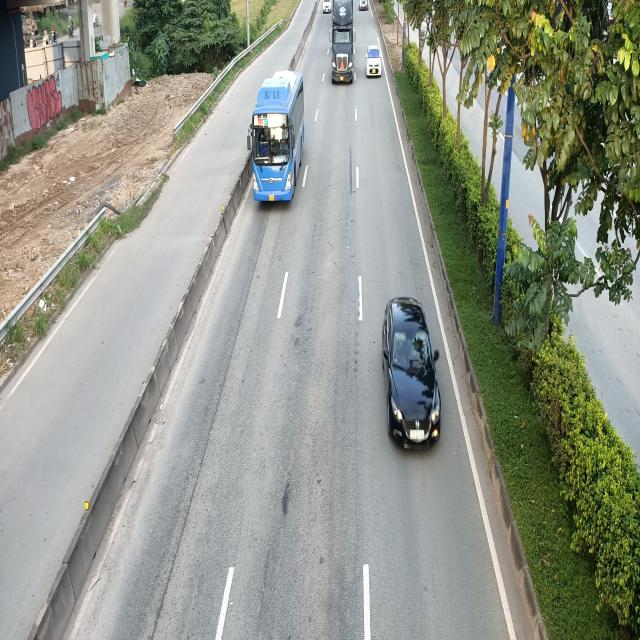car: (382, 295, 442, 448), (366, 46, 383, 78)
coach: (248, 73, 308, 206)
container: (331, 0, 356, 82)
